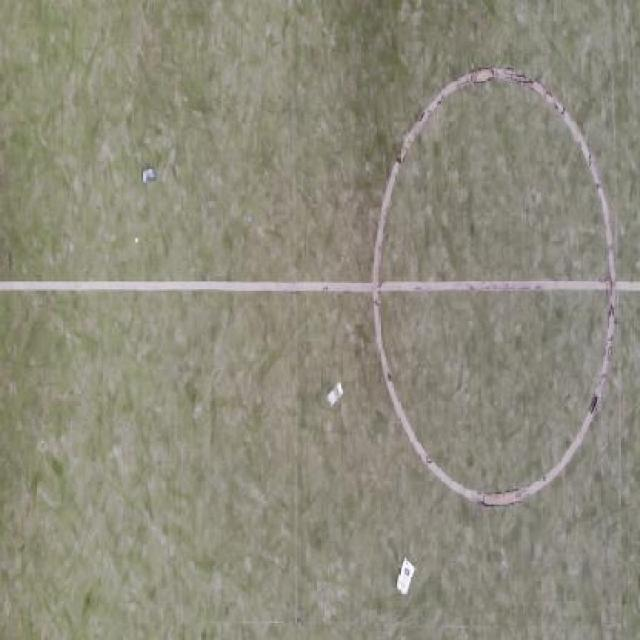Garbage: (396, 557, 415, 594), (327, 382, 344, 408), (142, 167, 156, 184), (248, 216, 251, 223), (136, 236, 138, 240)
